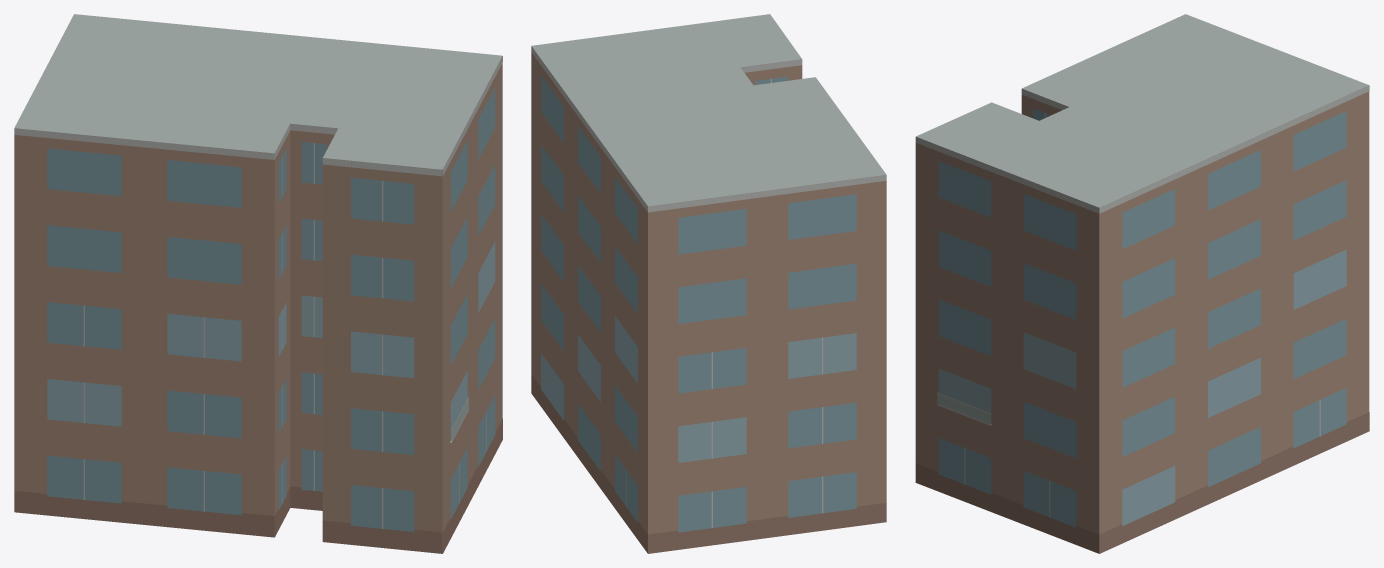
The model's file is survey-upis-32843810.glb.
3 views of the same model, side by side, from view 1: azimuth 30°, elevation 25°; view 2: azimuth 150°, elevation 25°; view 3: azimuth 270°, elevation 25° (orthographic). The views are drawn at different scales.
Parts seen in each view (by area): view 1: survey-upis-32843810.tmp; view 2: survey-upis-32843810.tmp; view 3: survey-upis-32843810.tmp.
Boxes of the visible parts, x1=… form: survey-upis-32843810.tmp: x1=14, y1=14, x2=502, y2=553; survey-upis-32843810.tmp: x1=531, y1=14, x2=886, y2=553; survey-upis-32843810.tmp: x1=915, y1=14, x2=1369, y2=553.
Bounding box in the file's own units: 16.94 × 14.1 × 16.76.
